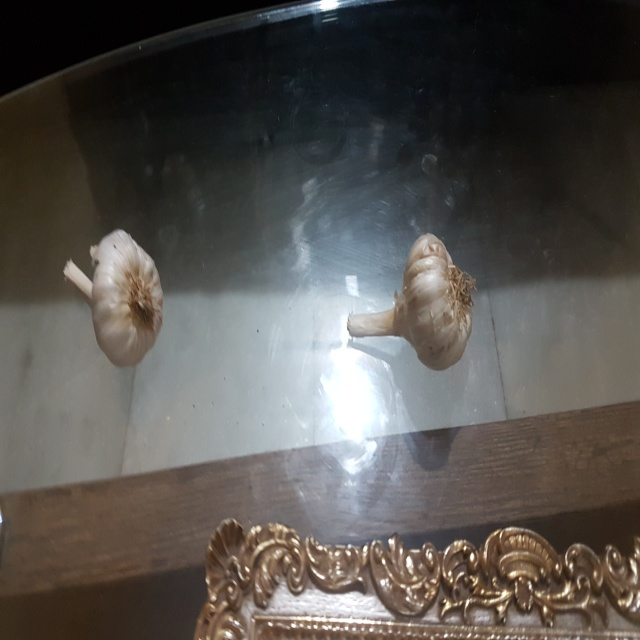garlic: (341, 226, 480, 375), (61, 227, 173, 372)
